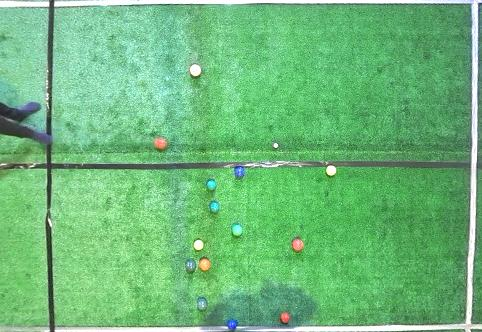blue: (234, 166, 245, 177), (227, 319, 238, 330)
green: (232, 224, 243, 236), (209, 201, 220, 213), (197, 298, 208, 310), (185, 260, 196, 271), (207, 179, 216, 190)
red: (198, 258, 211, 271), (154, 138, 168, 150), (292, 238, 304, 251), (190, 64, 201, 76), (281, 312, 291, 323)
vline: (1, 1, 57, 331), (462, 1, 481, 331)
white: (273, 143, 278, 148)
yellow: (193, 239, 204, 250), (326, 165, 336, 176)
